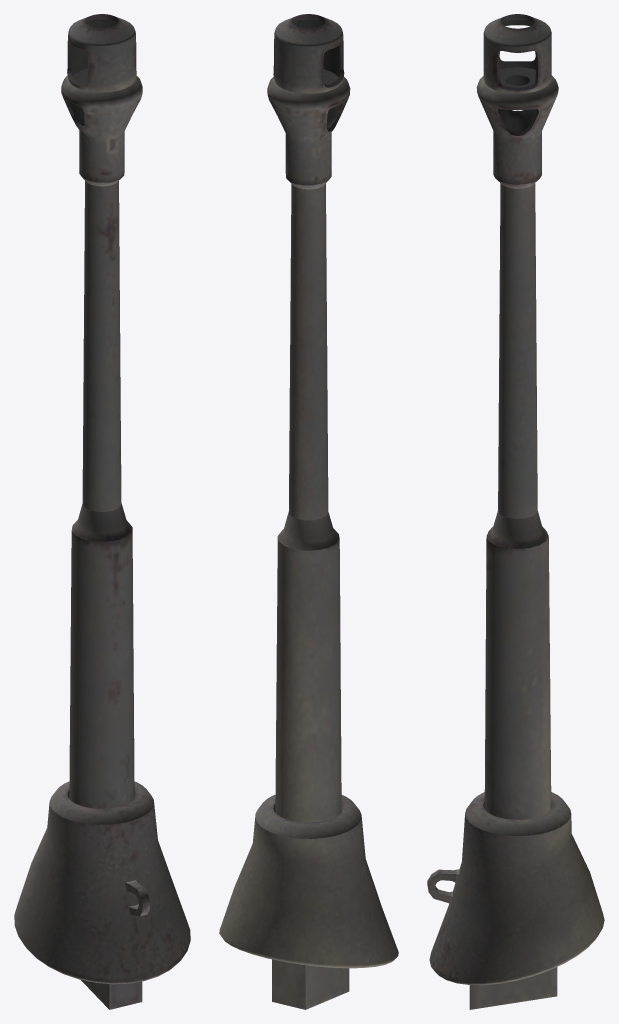
Rendered from Gun_06.glb.
The picture shows the model from 3 angles, left to right: view 1: azimuth 30°, elevation 25°; view 2: azimuth 150°, elevation 25°; view 3: azimuth 270°, elevation 25°; orthographic projection.
Parts seen in each view (by area): view 1: set_0_group_0; view 2: set_0_group_0; view 3: set_0_group_0.
Part boxes in pixels (x1=…): set_0_group_0: x1=14, y1=14, x2=190, y2=1009; set_0_group_0: x1=219, y1=14, x2=398, y2=1009; set_0_group_0: x1=427, y1=14, x2=604, y2=1009.
Bounding box in the file's own units: 0.6581 × 3.94 × 0.6461.
Materials: 1 (1 with a texture image).
